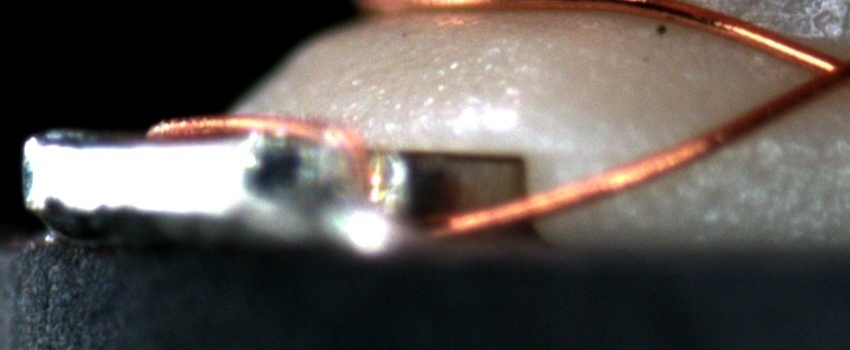CL: (791, 42, 850, 100)
DL: (576, 123, 850, 184)
TE: (149, 117, 376, 196)
